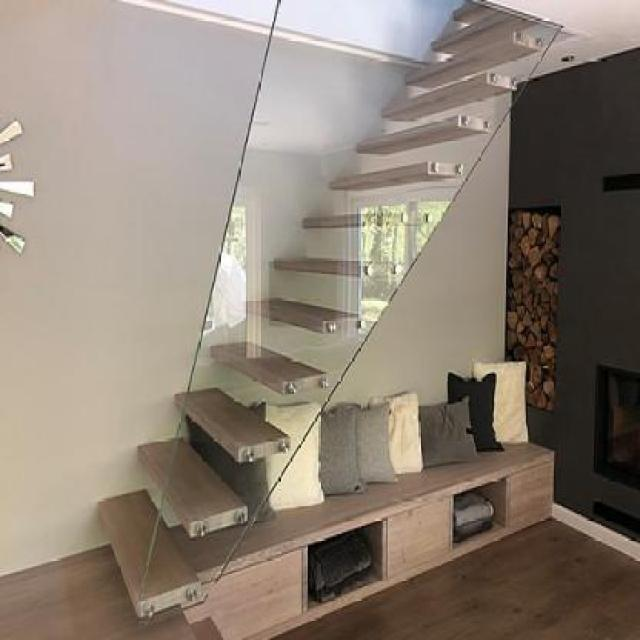stair: (117, 21, 526, 620)
